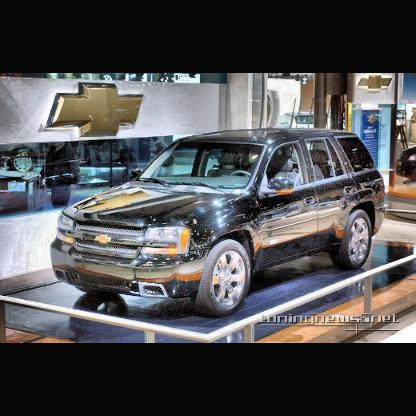Chevrolet TrailBlazer SS 2009: (51, 128, 389, 320)
